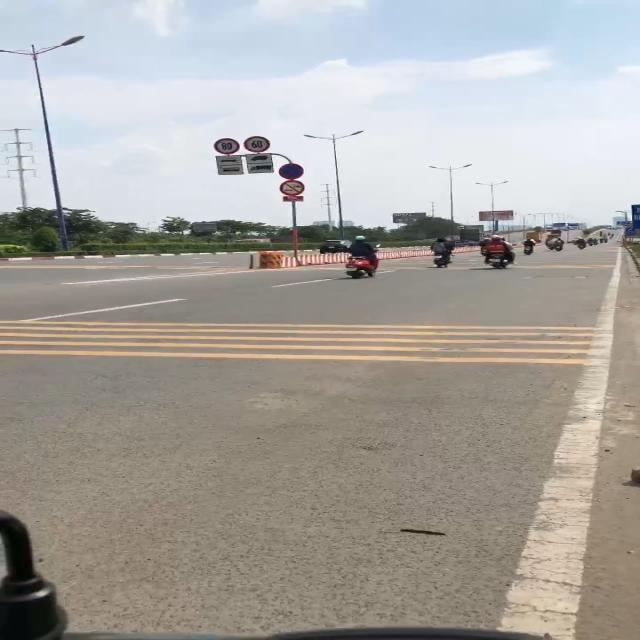Bien bao toc do toi da cho phep: (242, 135, 272, 153), (214, 136, 242, 154)
